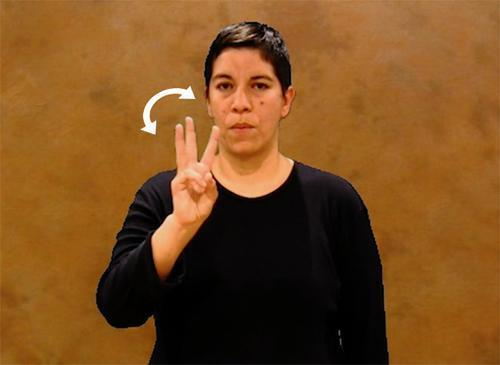W: (165, 110, 237, 229)
